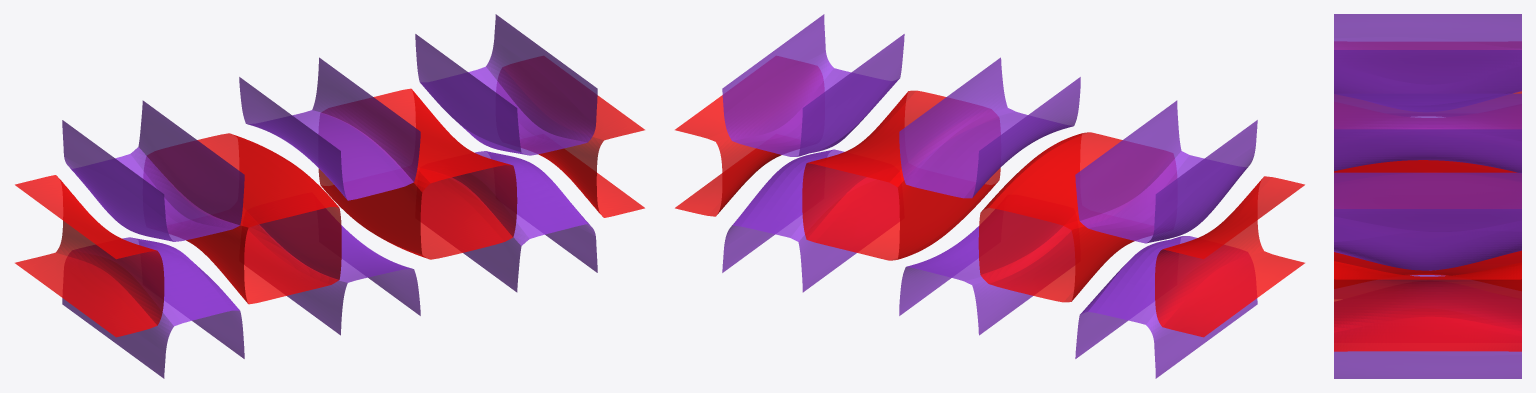
Rendered from fermi_surface_3d_complete.obj.
3 renders of one model, left to right at view 1: azimuth 30°, elevation 25°; view 2: azimuth 150°, elevation 25°; view 3: azimuth 270°, elevation 25°, orthographic. The views are drawn at different scales.
Parts seen in each view (by area): view 1: band_3, band_4; view 2: band_3, band_4; view 3: band_3, band_4.
Boxes of the visible parts, x1,y1,x2,y2 form: band_3: (62, 14, 597, 378); band_4: (15, 56, 644, 337); band_3: (722, 14, 1257, 378); band_4: (675, 56, 1304, 337); band_3: (1334, 14, 1521, 378); band_4: (1334, 42, 1521, 351).
Bounding box in the file's own units: 6 × 2 × 2.
